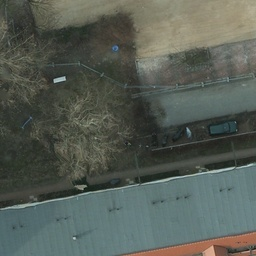car: (208, 119, 239, 138)
